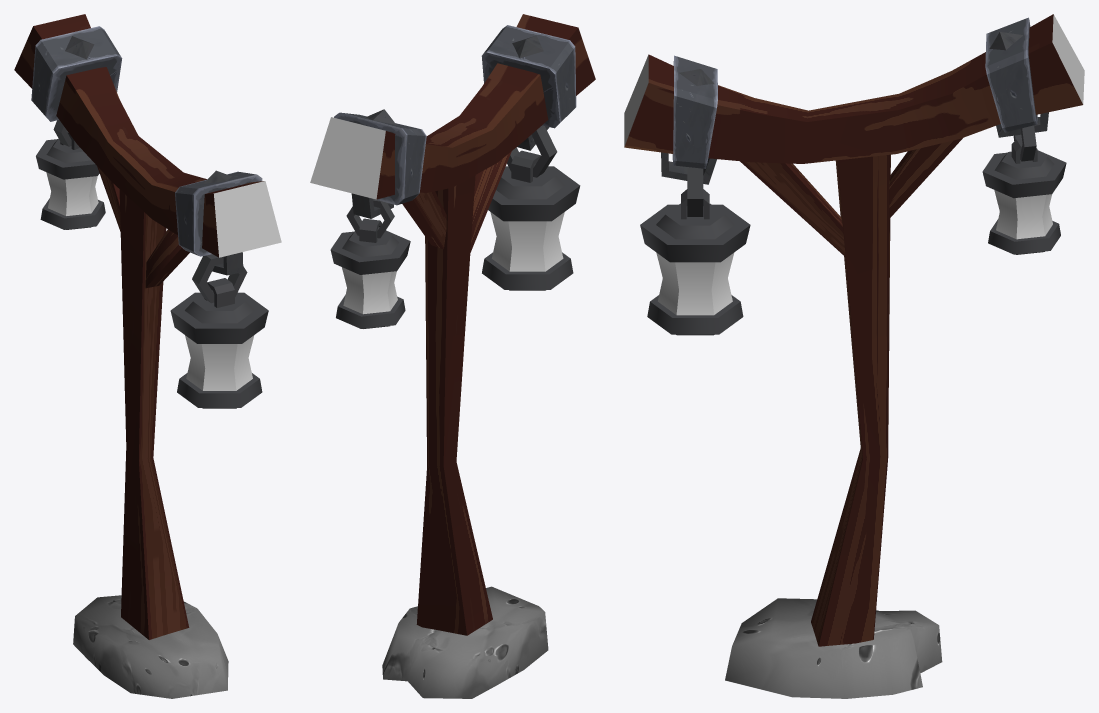
Rendered from SM_PROP_streetlamp_v02_04.fbx.
The picture shows the model from 3 angles, left to right: view 1: azimuth 30°, elevation 25°; view 2: azimuth 150°, elevation 25°; view 3: azimuth 270°, elevation 25°; orthographic projection. The views are drawn at different scales.
Visible parts, largest first — view 1: SM_PROP_streetlamp_v02_04; view 2: SM_PROP_streetlamp_v02_04; view 3: SM_PROP_streetlamp_v02_04.
Part boxes in pixels (<box>): SM_PROP_streetlamp_v02_04: <box>14,14,281,698</box>; SM_PROP_streetlamp_v02_04: <box>310,14,595,698</box>; SM_PROP_streetlamp_v02_04: <box>624,14,1084,698</box>.
Bounding box in the file's own units: 82.32 × 403 × 263.
